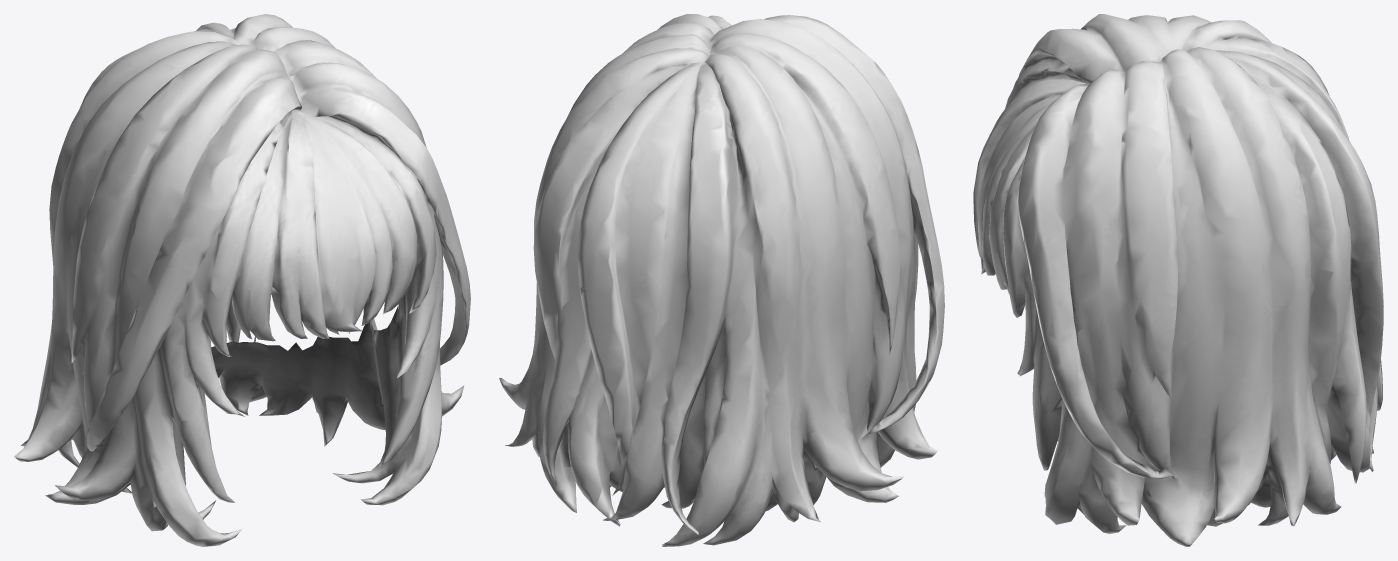
File: hair-shoulder.glb
The picture shows the model from 3 angles, left to right: view 1: azimuth 30°, elevation 25°; view 2: azimuth 150°, elevation 25°; view 3: azimuth 270°, elevation 25°; orthographic projection. The views are drawn at different scales.
Visible parts, largest first — view 1: tripo_node_71df5092-c915-433c-8f5d-5b8928e24aac; view 2: tripo_node_71df5092-c915-433c-8f5d-5b8928e24aac; view 3: tripo_node_71df5092-c915-433c-8f5d-5b8928e24aac.
Boxes of the visible parts, x1,y1,x2,y2 form: tripo_node_71df5092-c915-433c-8f5d-5b8928e24aac: [14, 14, 470, 546]; tripo_node_71df5092-c915-433c-8f5d-5b8928e24aac: [499, 14, 944, 546]; tripo_node_71df5092-c915-433c-8f5d-5b8928e24aac: [973, 14, 1383, 546].
Size of the model in its own units: 0.2908 by 0.3 by 0.2488.
1 material, 1 textured.
